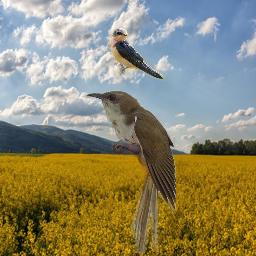Cuckoo: (86, 89, 176, 253)
Swallow: (109, 25, 168, 82)
